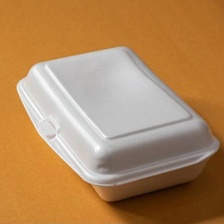foam_box: (11, 41, 224, 206)
